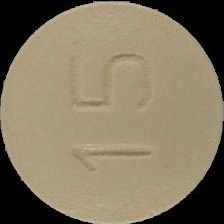0615-7704: (0, 0, 224, 224)
